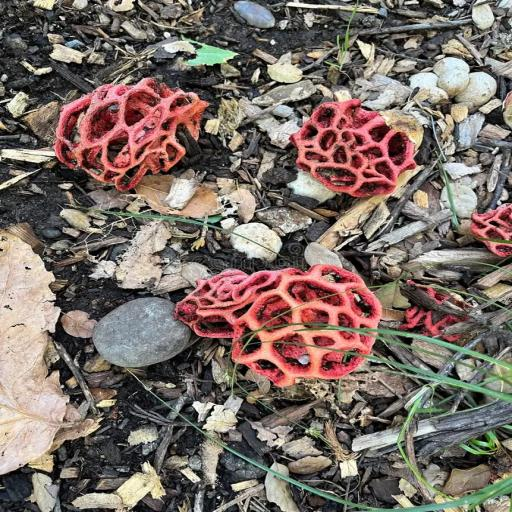Red Cage Fungus: (169, 266, 381, 383), (63, 74, 208, 178), (291, 100, 429, 199), (399, 282, 480, 344), (462, 202, 512, 258)
